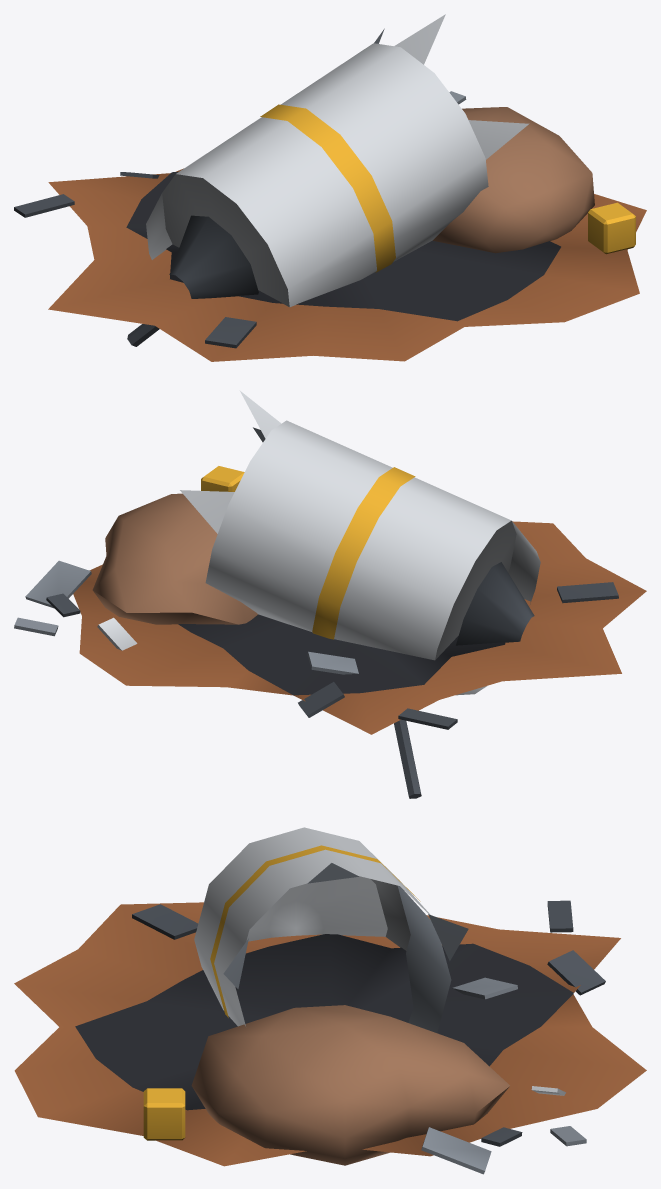
Rendered from poi_wreck.glb.
3 renders of one model, top to bottom at view 1: azimuth 30°, elevation 25°; view 2: azimuth 150°, elevation 25°; view 3: azimuth 270°, elevation 25°, orthographic. The views are drawn at different scales.
Parts seen in each view (by area): view 1: Base; view 2: Base; view 3: Base.
Boxes of the visible parts, bbox=[...] form: Base: bbox=[14, 14, 646, 361]; Base: bbox=[14, 390, 646, 798]; Base: bbox=[14, 827, 646, 1174].
Bounding box in the file's own units: 10.22 × 5.64 × 9.11.
